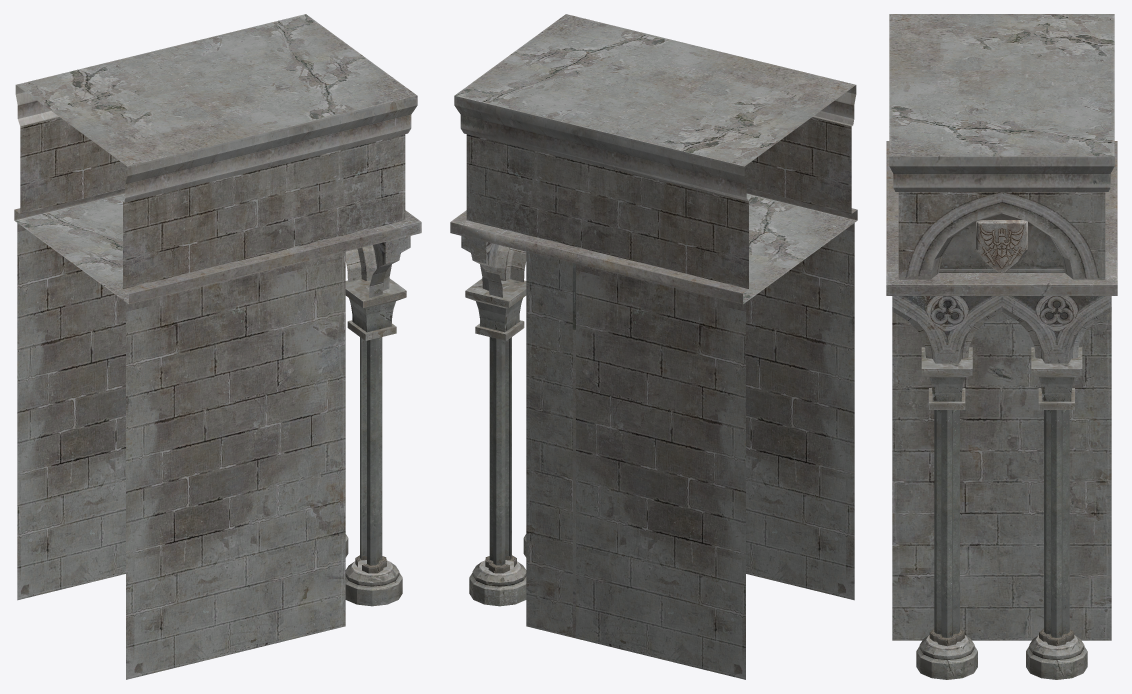
File: bg_lut_lucastle_library03_sm_psy.FBX
3 renders of one model, left to right at view 1: azimuth 30°, elevation 25°; view 2: azimuth 150°, elevation 25°; view 3: azimuth 270°, elevation 25°, orthographic.
Visible parts, largest first — view 1: bg_lut_lucastle_library03_sm_psy; view 2: bg_lut_lucastle_library03_sm_psy; view 3: bg_lut_lucastle_library03_sm_psy.
Boxes of the visible parts, <box> form: bg_lut_lucastle_library03_sm_psy: <box>14,14,421,679</box>; bg_lut_lucastle_library03_sm_psy: <box>450,14,857,679</box>; bg_lut_lucastle_library03_sm_psy: <box>886,14,1117,679</box>.
Size of the model in its own units: 287 by 470 by 190.
